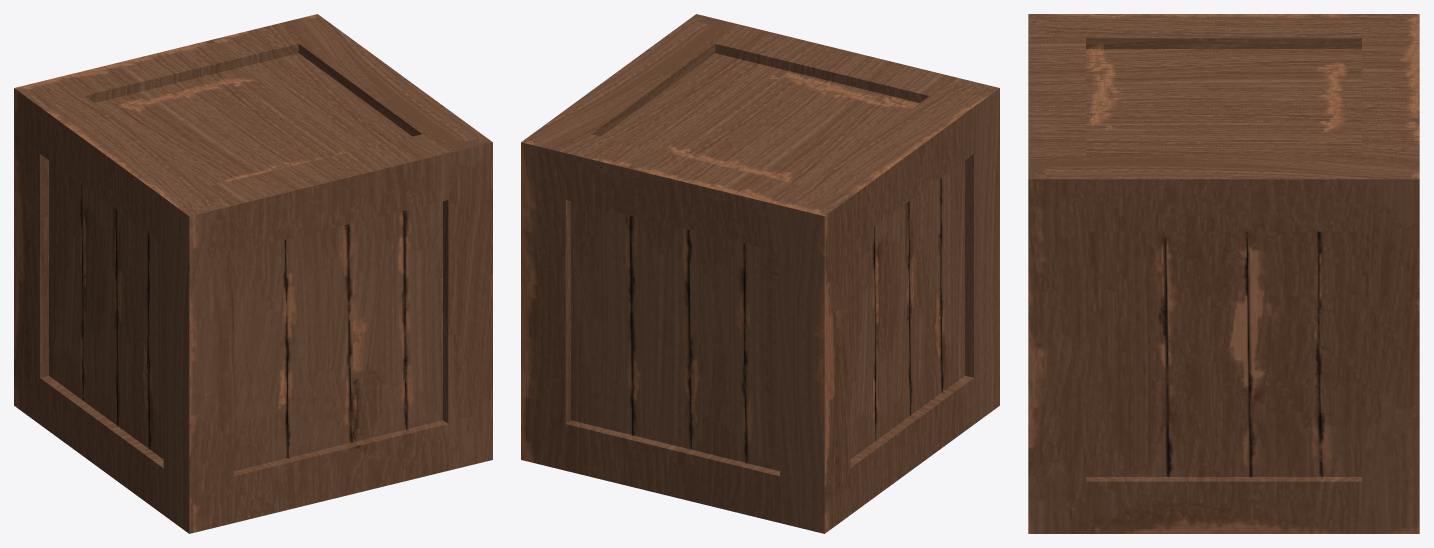
The model's file is BoxBlend.fbx.
The picture shows the model from 3 angles, left to right: view 1: azimuth 30°, elevation 25°; view 2: azimuth 150°, elevation 25°; view 3: azimuth 270°, elevation 25°; orthographic projection. The views are drawn at different scales.
Parts seen in each view (by area): view 1: Cube; view 2: Cube; view 3: Cube.
Boxes of the visible parts, x1,y1,x2,y2 form: Cube: [14, 14, 492, 533]; Cube: [521, 14, 999, 533]; Cube: [1028, 14, 1419, 533].
Size of the model in its own units: 397 by 397 by 397.
1 material, 1 textured.
